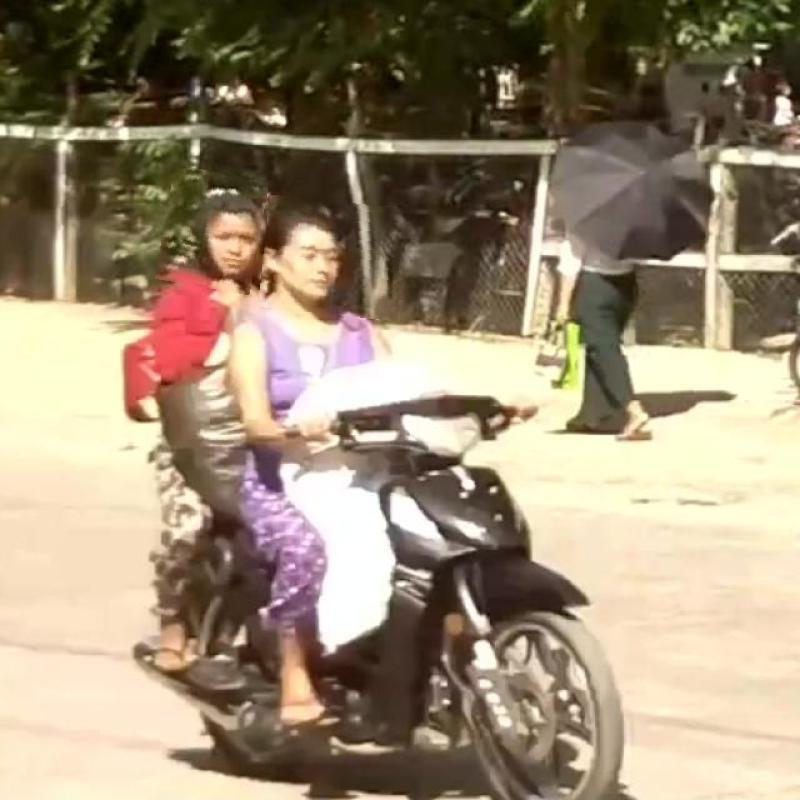nohelmet: (262, 198, 406, 318), (160, 168, 264, 292)
